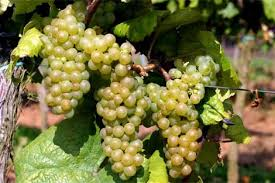Green grapes: (96, 43, 148, 183), (36, 11, 101, 118), (152, 64, 205, 180)
